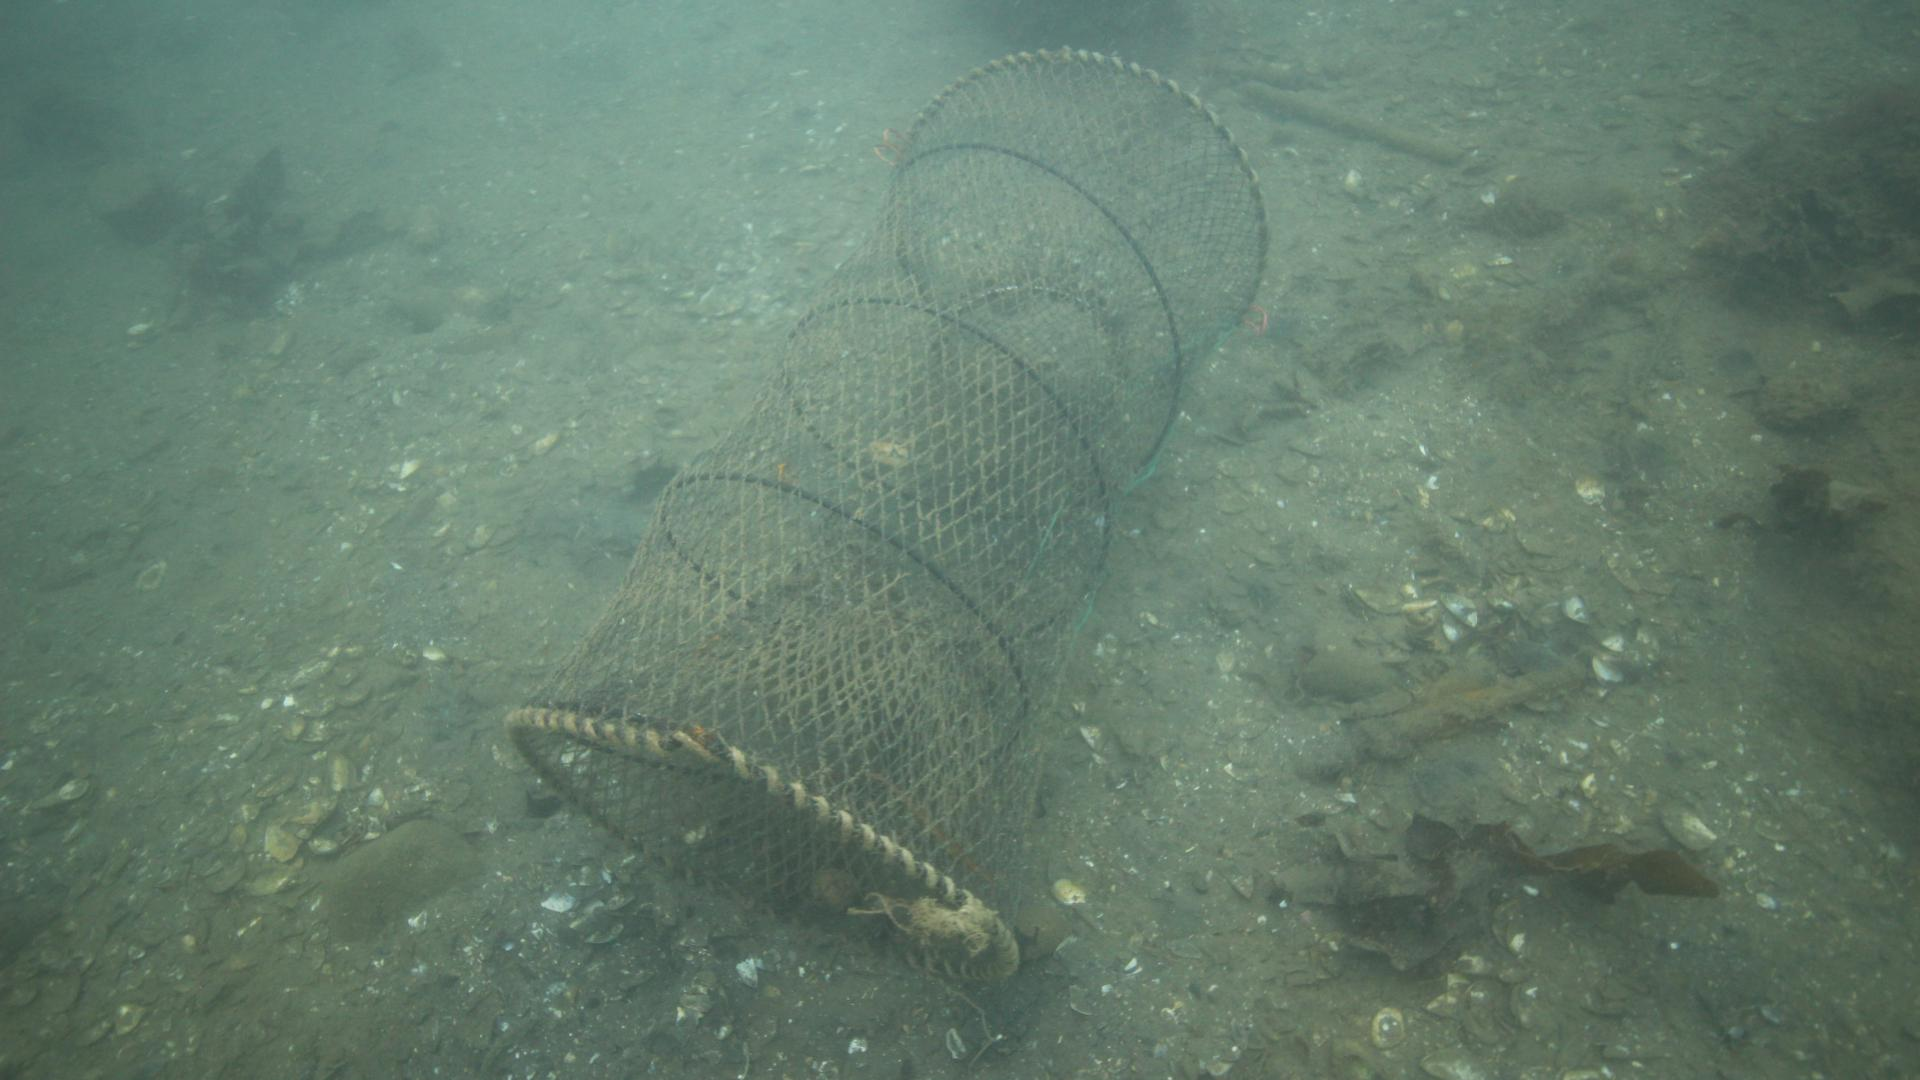spring fish trap: (498, 42, 1273, 986)
